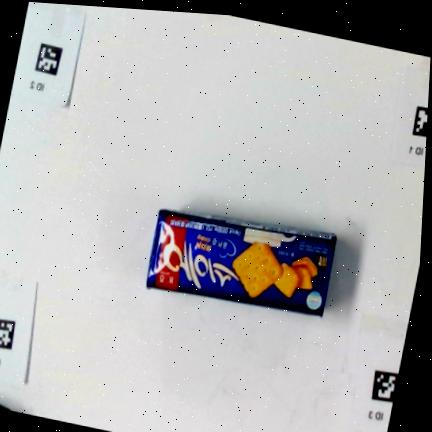cracker_ace: (145, 209, 335, 316)
